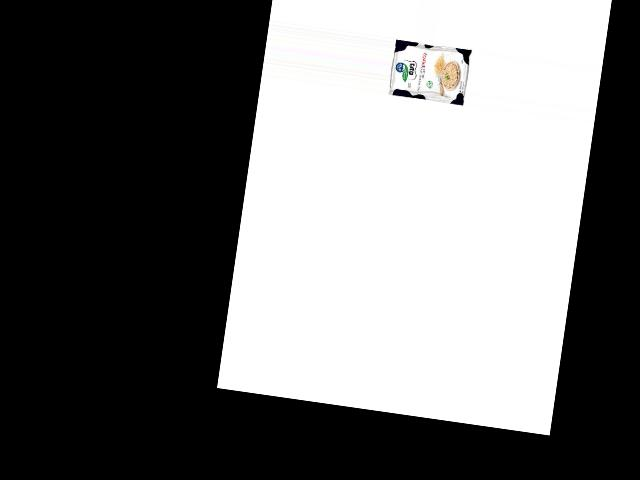cheese: (387, 37, 473, 106)
